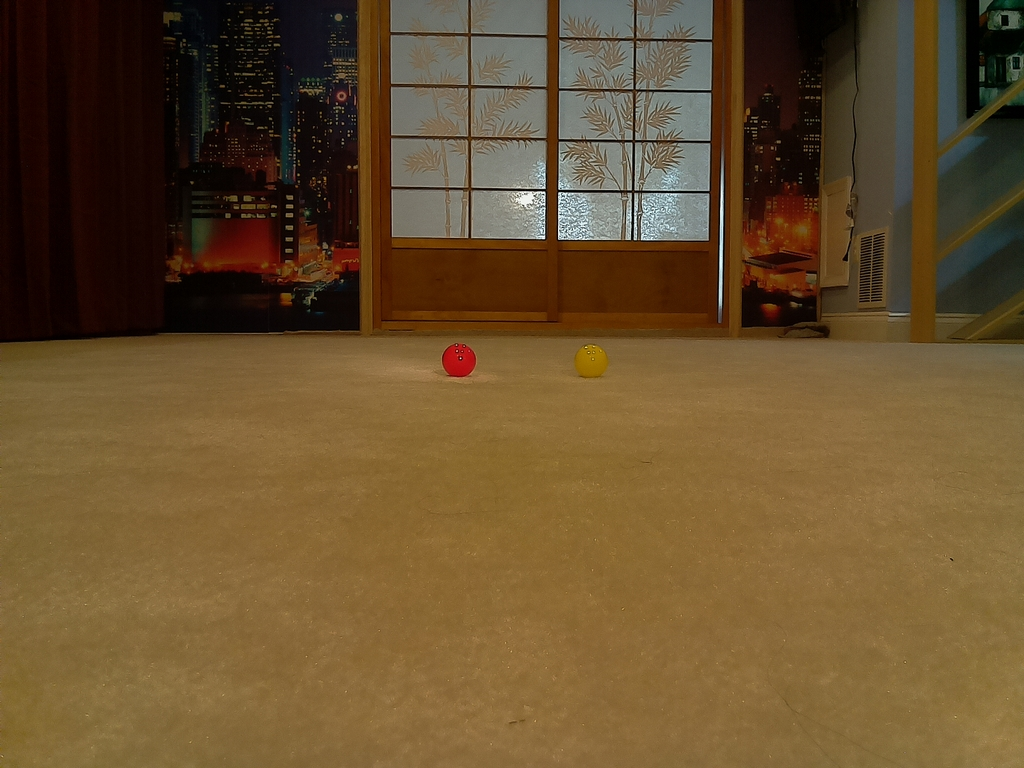ball: (442, 341, 476, 380)
